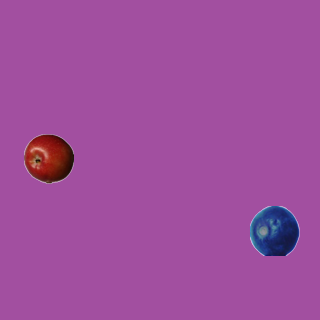Apple Braeburn: (23, 133, 73, 183)
Huckleberry: (249, 205, 299, 255)
